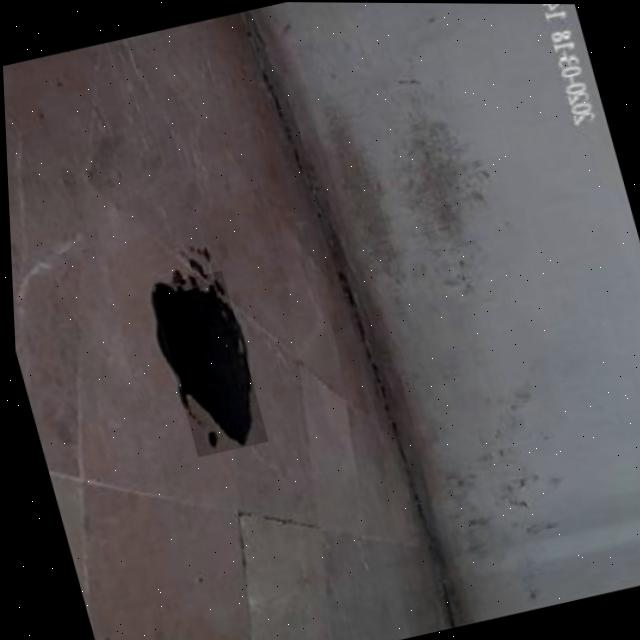spillage: (159, 284, 250, 446)
